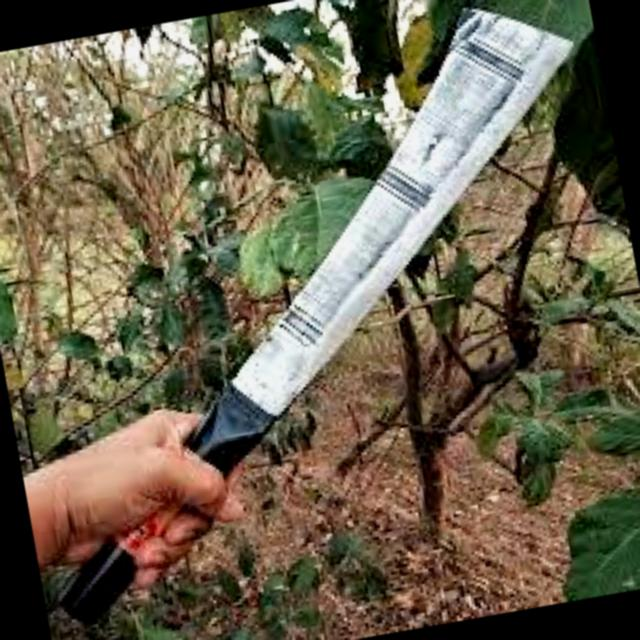eto: (24, 0, 582, 640)
